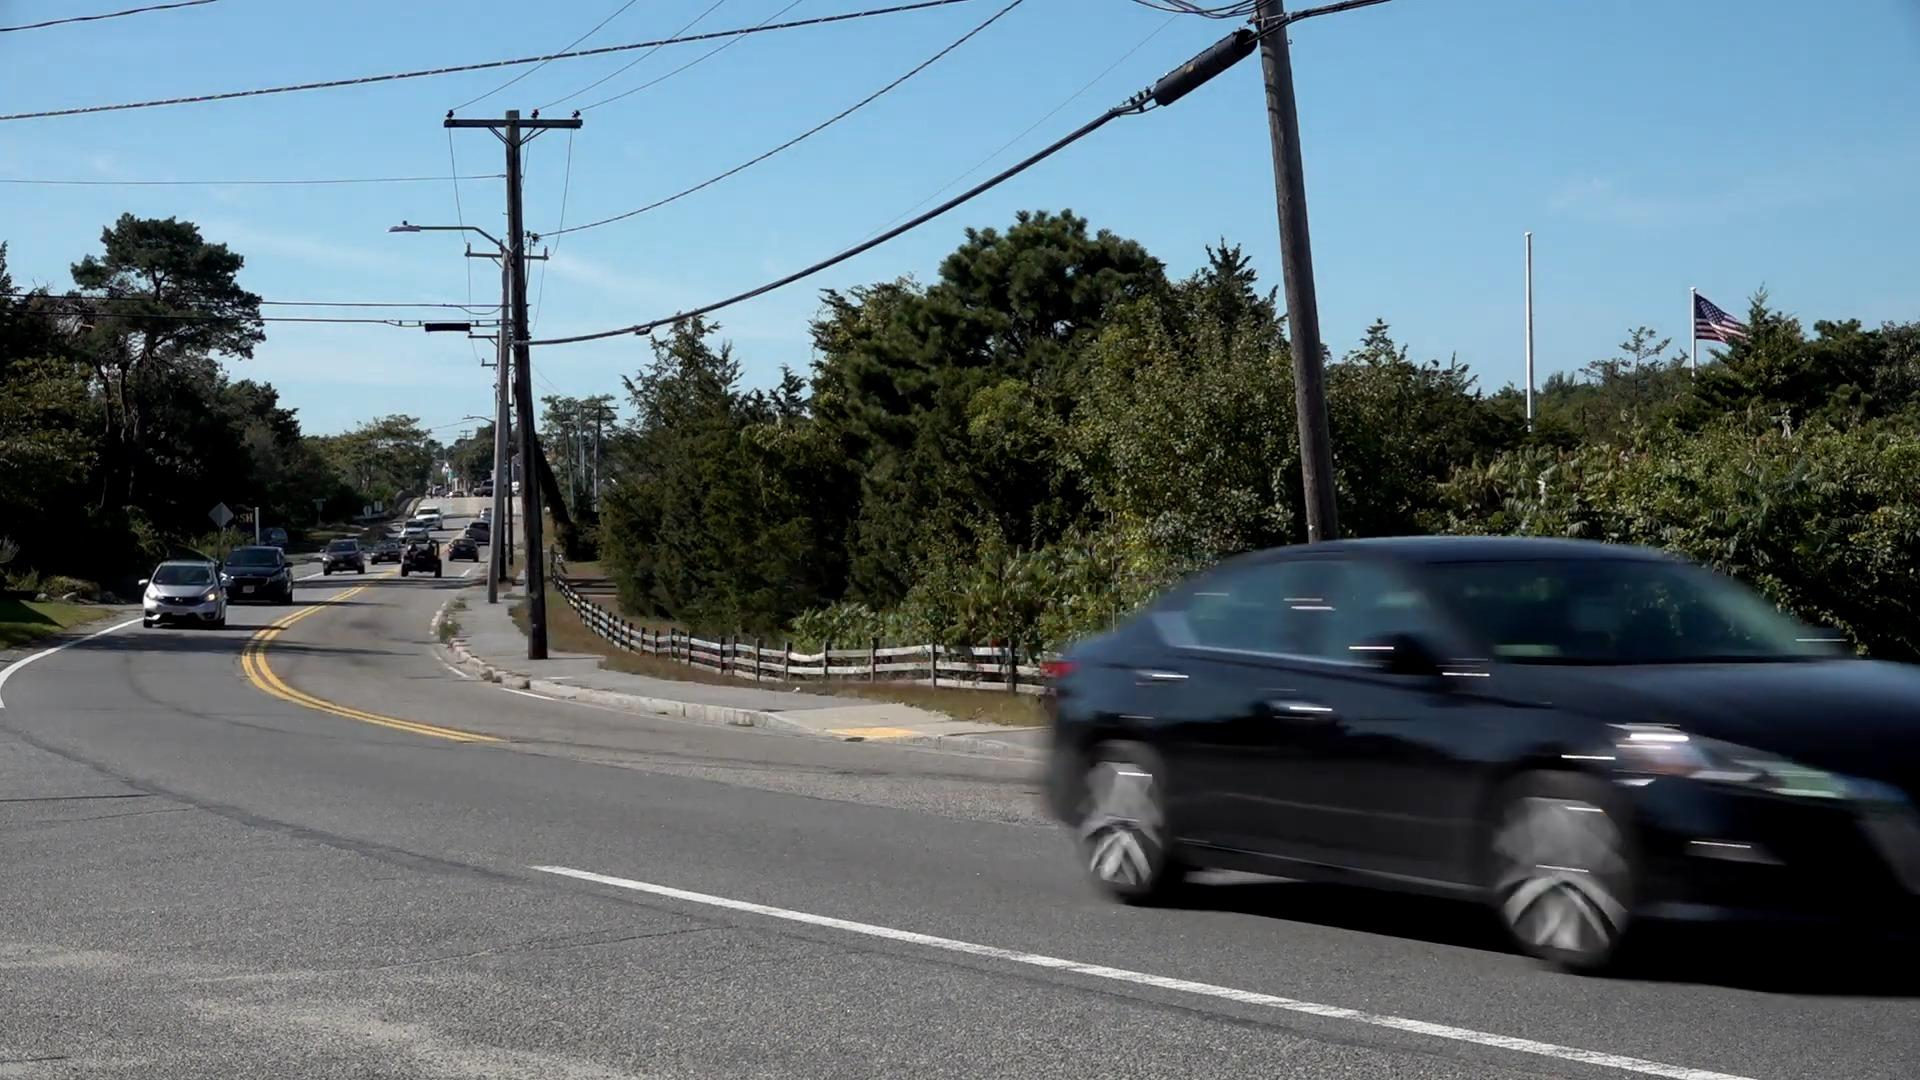sedans: (1044, 534, 1920, 967), (141, 559, 231, 630)
